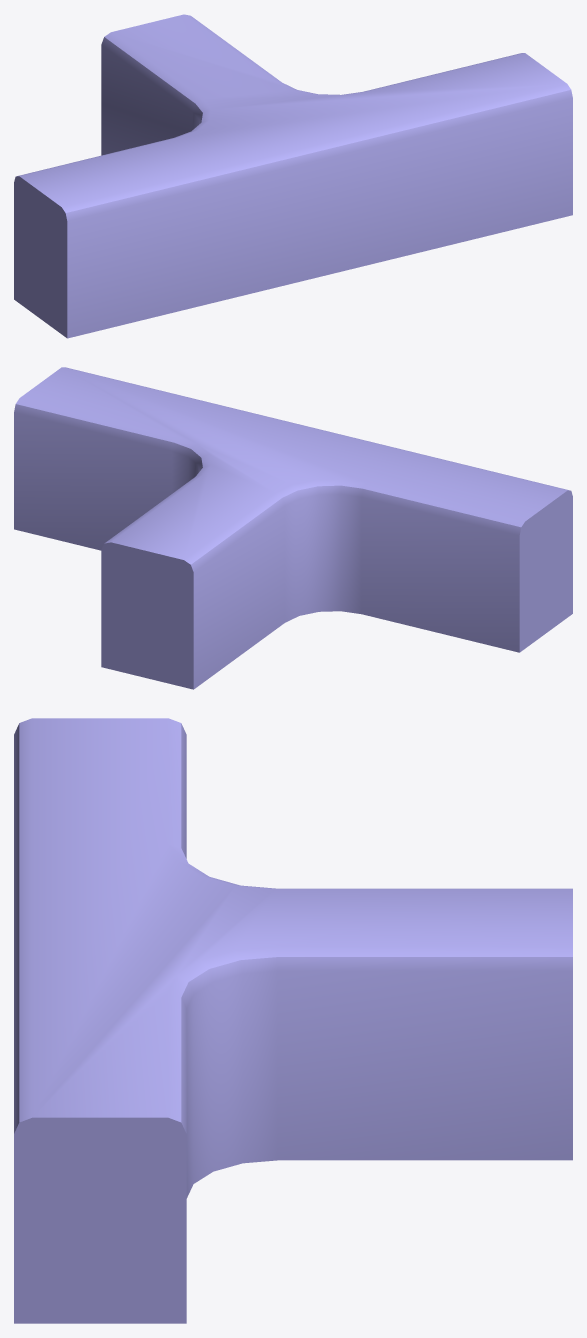
File: Board_FrameTJunction.fbx
3 views of the same model, one above another, from view 1: azimuth 30°, elevation 25°; view 2: azimuth 150°, elevation 25°; view 3: azimuth 270°, elevation 25° (orthographic). The views are drawn at different scales.
Parts seen in each view (by area): view 1: Board_FrameTJunction; view 2: Board_FrameTJunction; view 3: Board_FrameTJunction.
Boxes of the visible parts, <box> form: Board_FrameTJunction: <box>14,14,572,338</box>; Board_FrameTJunction: <box>14,367,572,689</box>; Board_FrameTJunction: <box>14,718,572,1323</box>.
Size of the model in its own units: 1.04 by 0.25 by 0.615.
